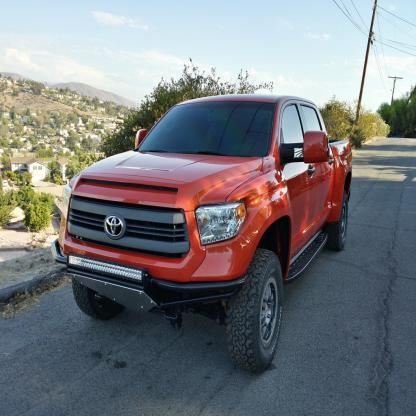Truck: (51, 94, 352, 373)
